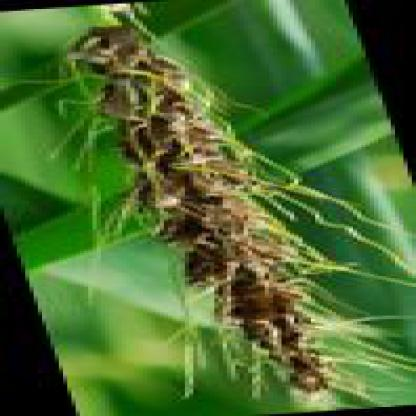Wheat Smut: (147, 181, 250, 214), (110, 79, 212, 110), (142, 147, 233, 180), (172, 219, 283, 242), (128, 116, 221, 143), (201, 245, 309, 262), (93, 57, 168, 76), (90, 29, 139, 54), (236, 296, 290, 316), (250, 324, 298, 344), (241, 268, 279, 288), (269, 350, 323, 364), (188, 265, 222, 285), (296, 376, 336, 386)
